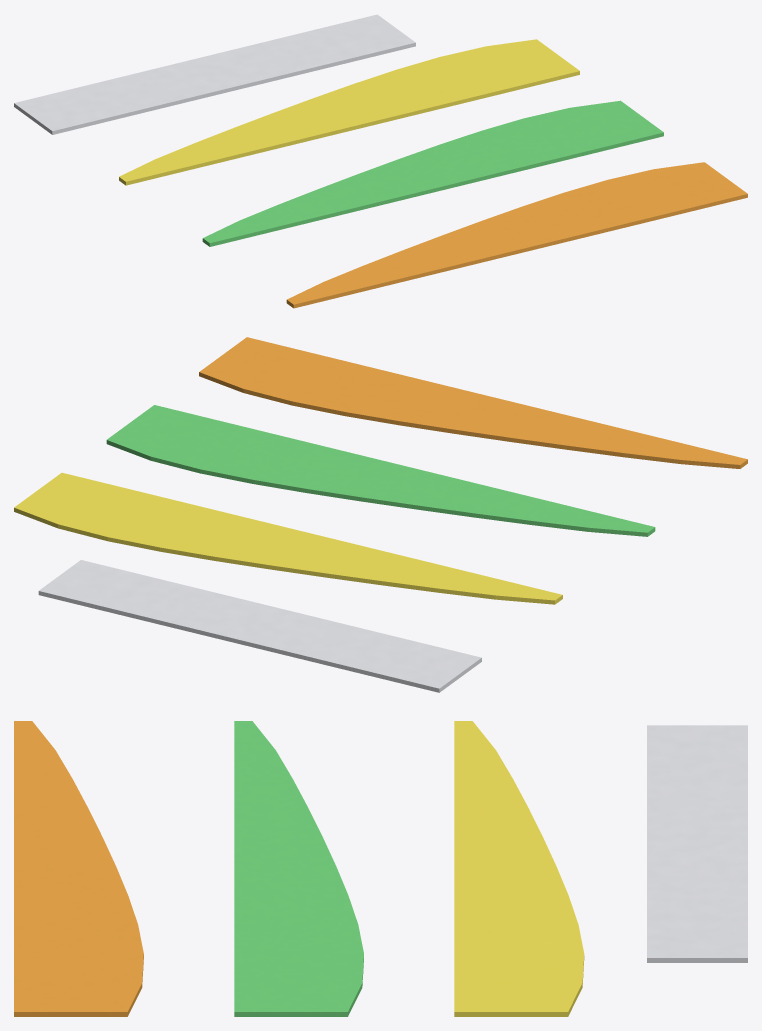
File: FL_PlasticVanes.fbx
3 renders of one model, top to bottom at view 1: azimuth 30°, elevation 25°; view 2: azimuth 150°, elevation 25°; view 3: azimuth 270°, elevation 25°, orthographic. The views are drawn at different scales.
Visible parts, largest first — view 1: FL_PlasticVanes; view 2: FL_PlasticVanes; view 3: FL_PlasticVanes.
Part boxes in pixels (<box>): FL_PlasticVanes: <box>14,14,747,308</box>; FL_PlasticVanes: <box>14,337,747,692</box>; FL_PlasticVanes: <box>14,721,747,1016</box>.
Size of the model in its own units: 0.00625 by 9.17e-05 by 0.00667.
